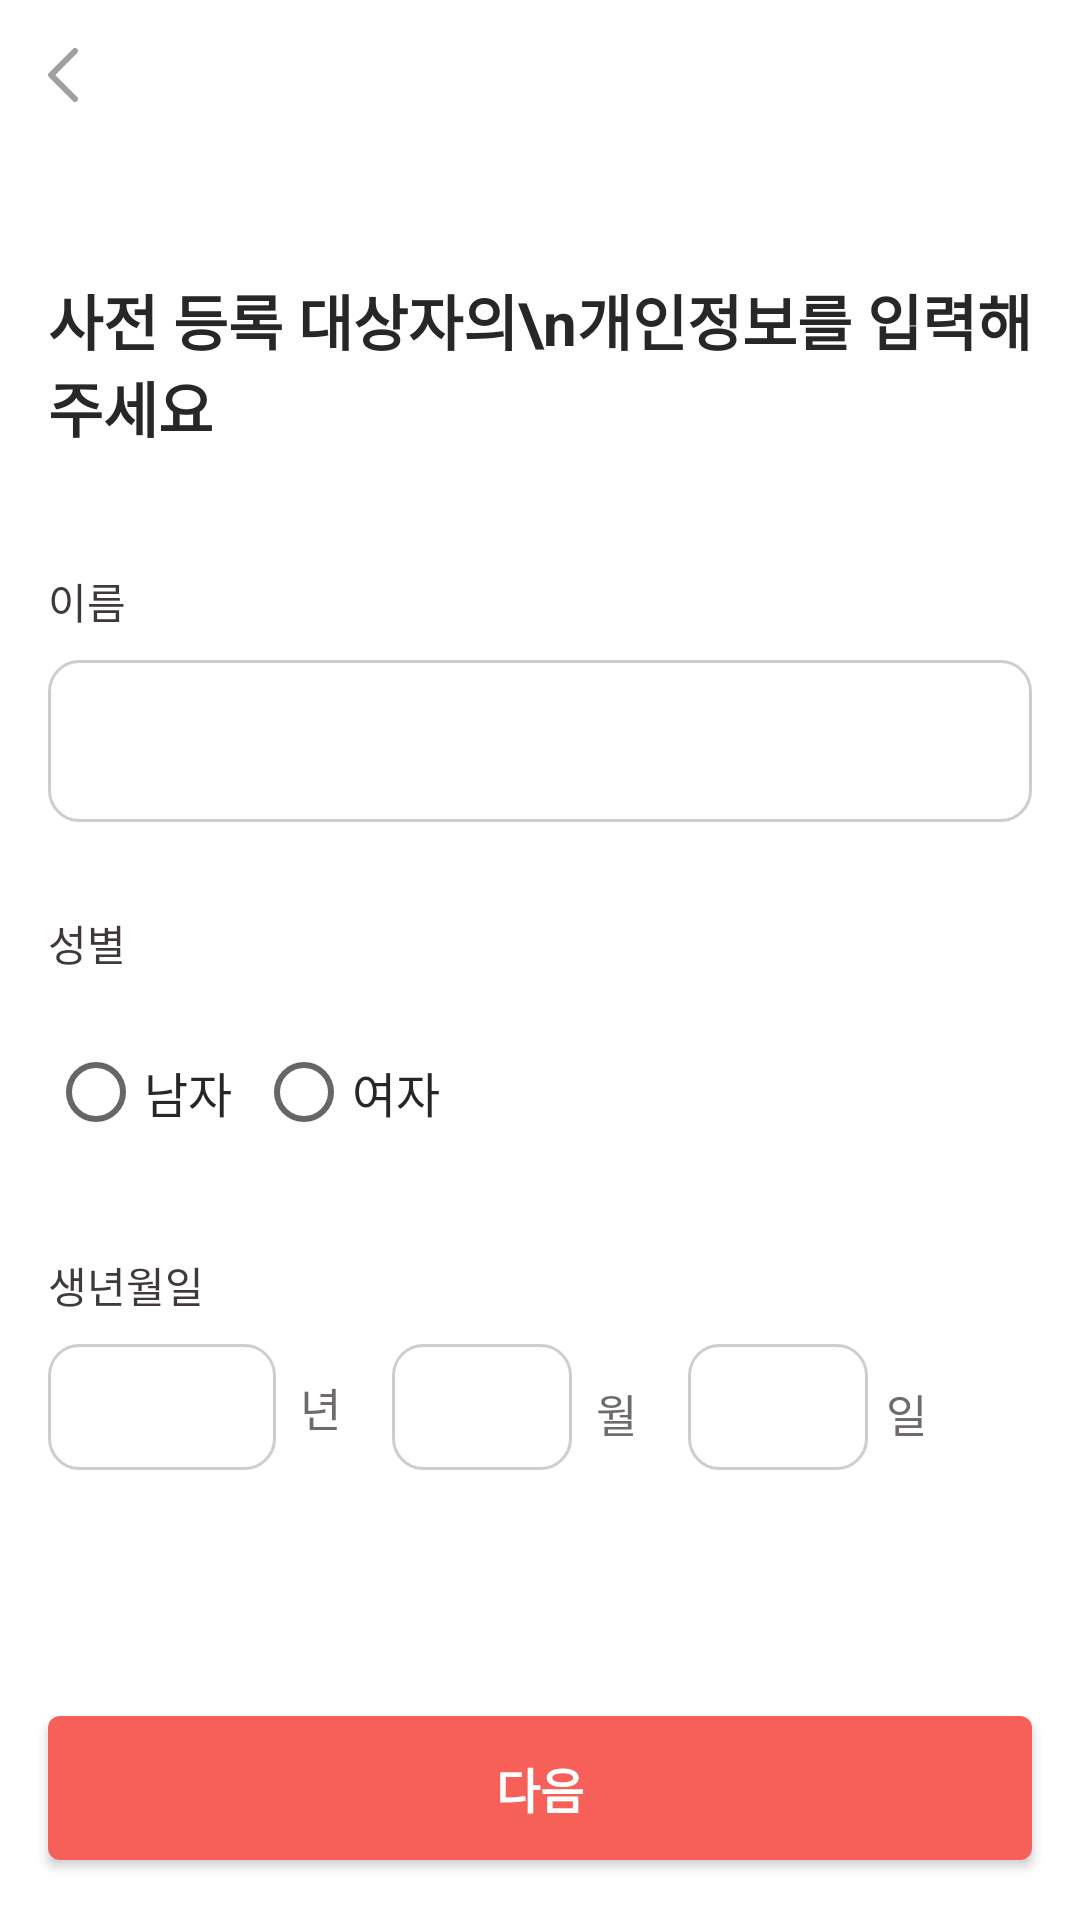

Screen size 1080*1920. Icon name, then its center in pixels as (x=x, y=y):
back: (x=63, y=75)
